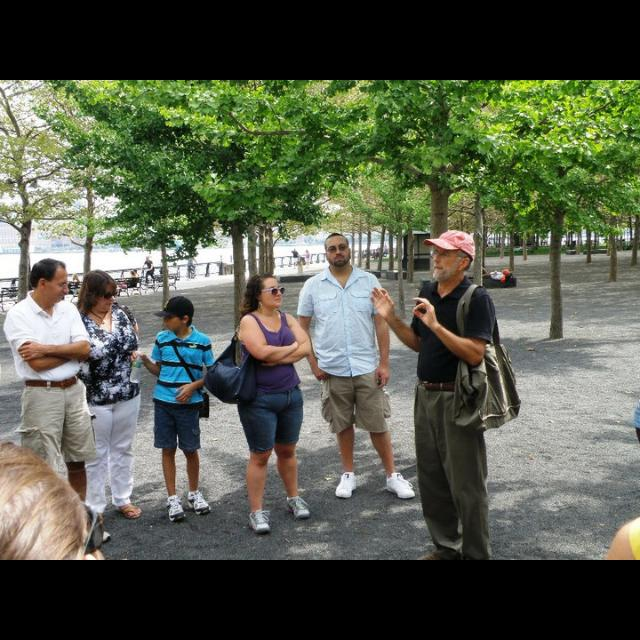head: (430, 237, 474, 285), (30, 260, 70, 304), (82, 270, 118, 312), (248, 273, 284, 309), (164, 297, 196, 333), (325, 233, 353, 269), (73, 275, 79, 281), (146, 258, 150, 262), (189, 253, 193, 257), (294, 250, 298, 254)
person: (294, 229, 421, 505), (1, 258, 117, 550), (199, 269, 315, 537), (61, 268, 148, 532), (125, 292, 222, 528), (140, 256, 158, 286), (64, 271, 82, 299), (185, 253, 201, 275), (290, 248, 302, 268)
